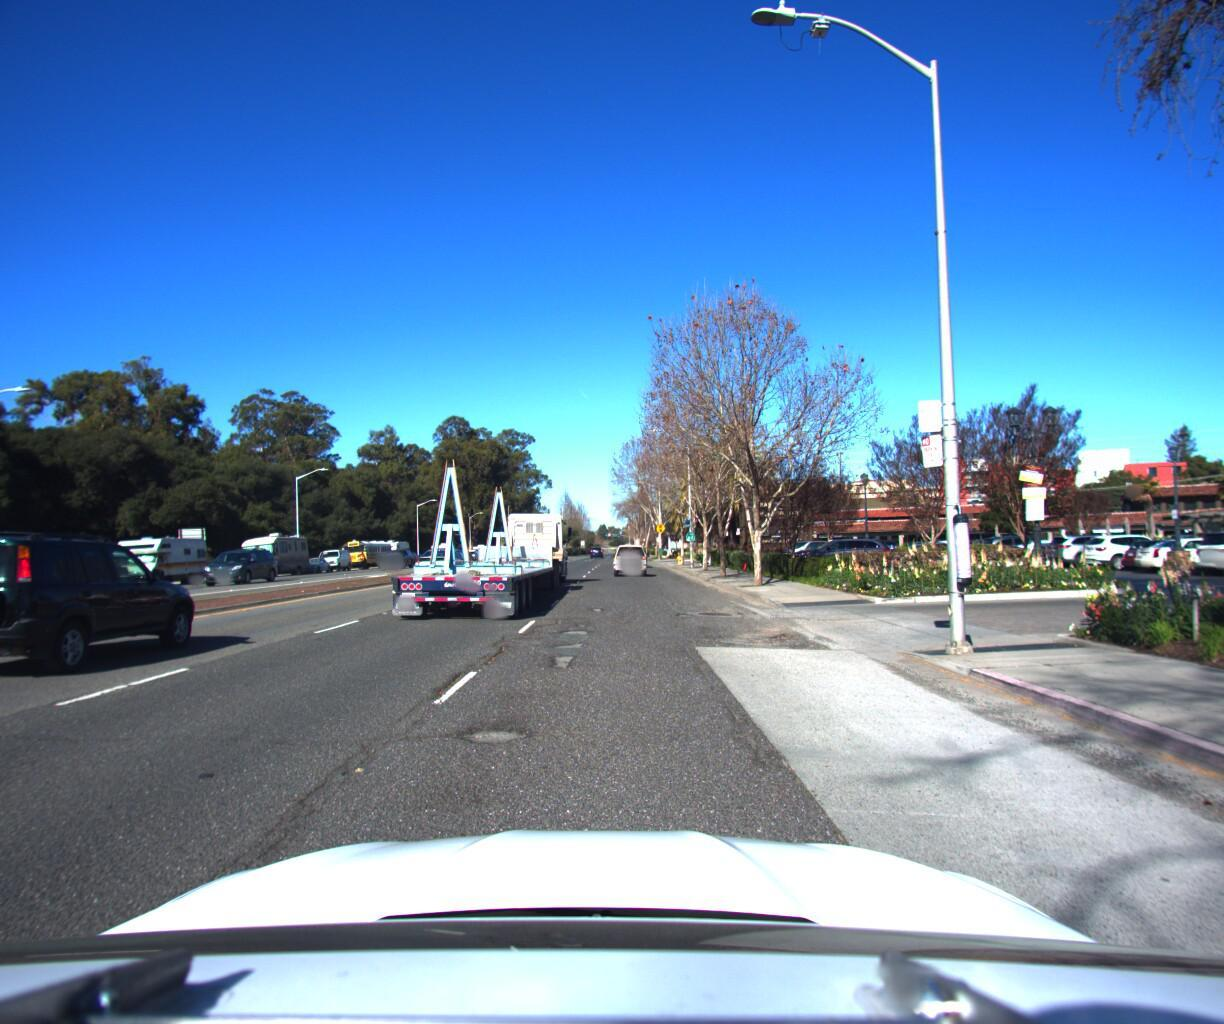bus: (336, 529, 397, 562)
car: (0, 524, 223, 689), (787, 525, 895, 563), (199, 540, 285, 580), (779, 527, 864, 559), (408, 538, 479, 576), (612, 534, 649, 566), (316, 539, 357, 563), (298, 547, 336, 566)
other_vehicle: (109, 526, 218, 582), (235, 521, 316, 570)
truck: (373, 431, 582, 634)
